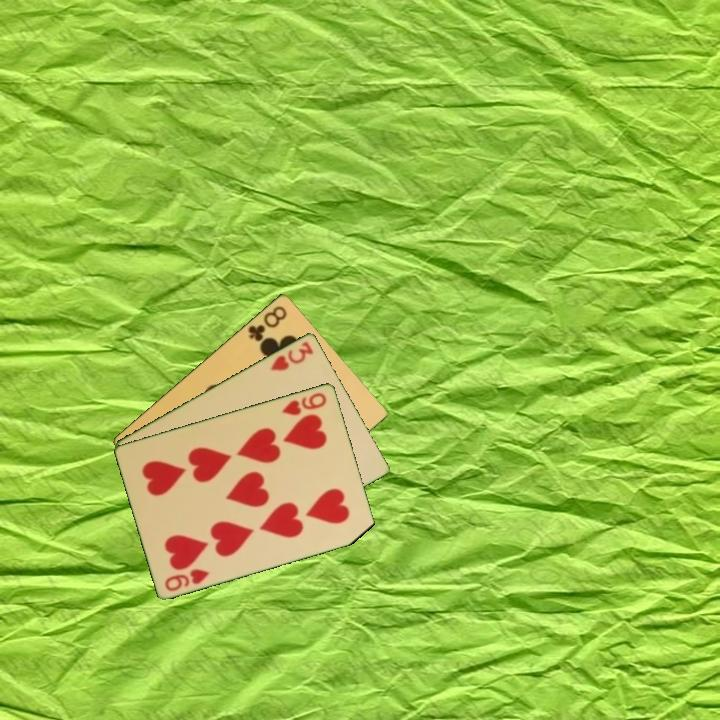3h: (267, 337, 316, 374)
8c: (244, 302, 290, 344)
9h: (161, 565, 213, 594), (279, 389, 329, 418)
